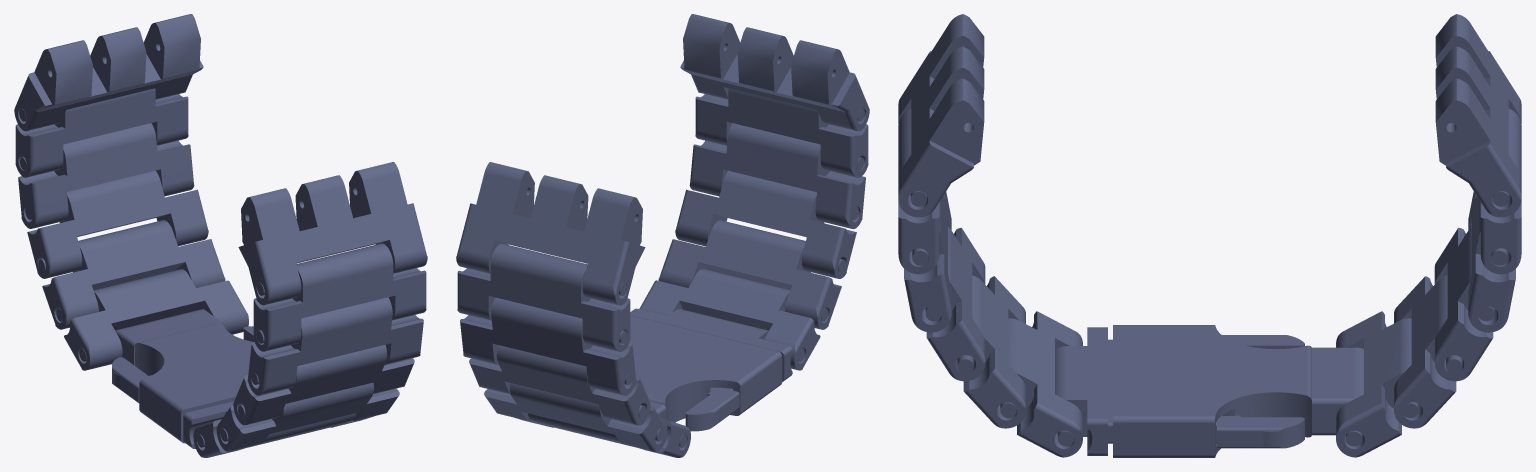
The model's file is custom_watch_strap_for_swatch.glb.
3 renders of one model, left to right at view 1: azimuth 30°, elevation 25°; view 2: azimuth 150°, elevation 25°; view 3: azimuth 270°, elevation 25°, orthographic. The views are drawn at different scales.
Parts seen in each view (by area): view 1: Object_2; view 2: Object_2; view 3: Object_2.
Boxes of the visible parts, <box> form: Object_2: <box>14,14,427,457</box>; Object_2: <box>456,14,869,457</box>; Object_2: <box>898,14,1521,457</box>.
Size of the model in its own units: 22.2 by 38.37 by 61.
